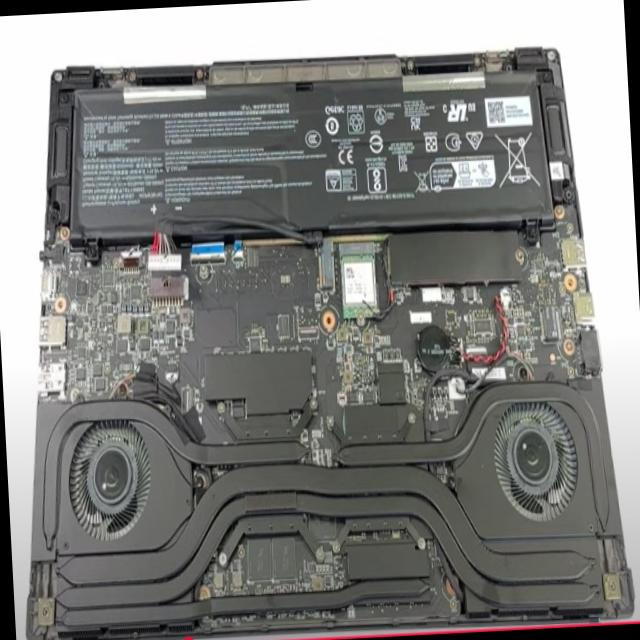battery: (70, 76, 546, 236)
ssd: (386, 230, 522, 290)
wifi: (339, 242, 381, 324)
